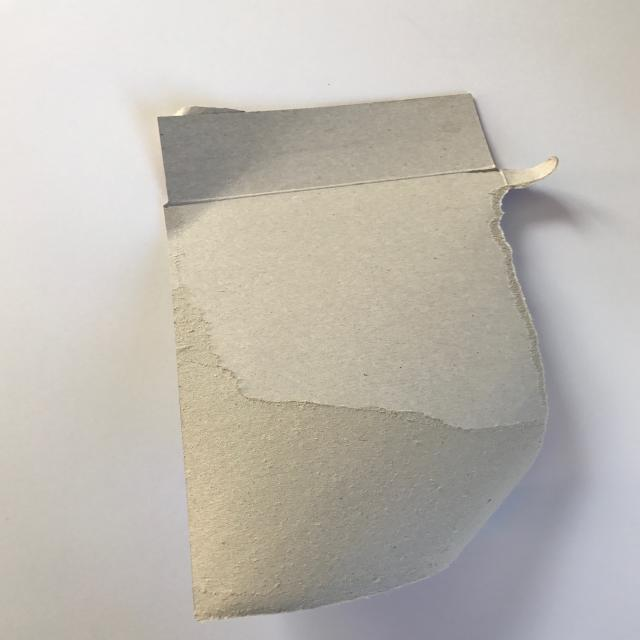paper: (95, 58, 608, 640)
